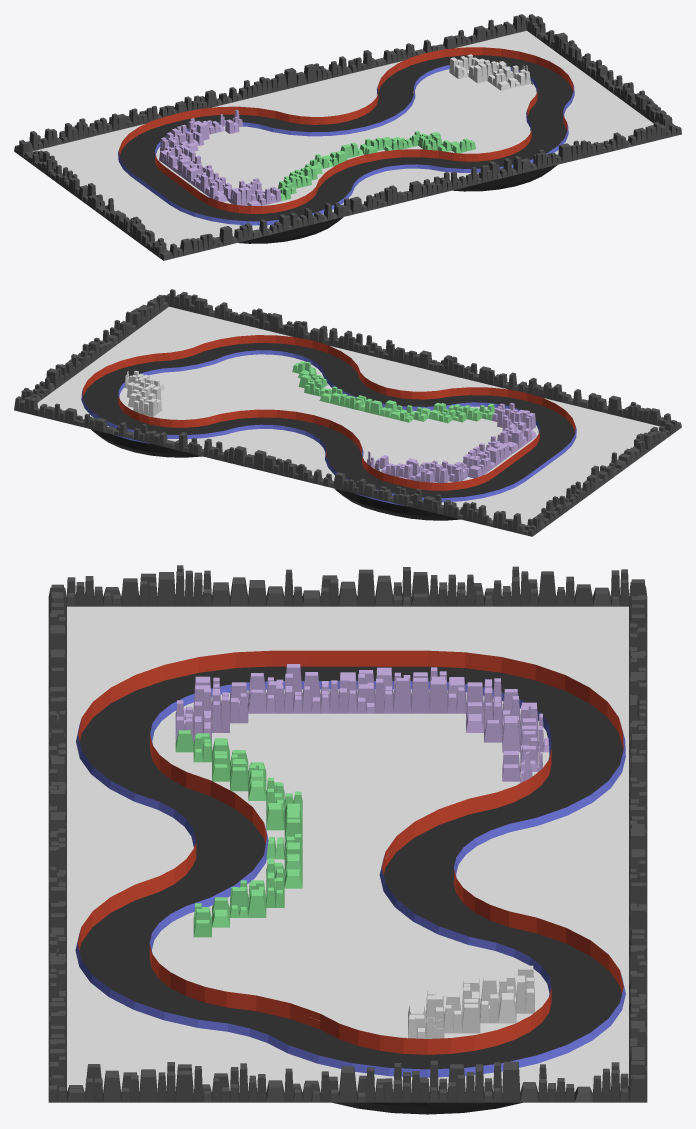
Rendered from M_track_1.glb.
3 views of the same model, one above another, from view 1: azimuth 30°, elevation 25°; view 2: azimuth 150°, elevation 25°; view 3: azimuth 270°, elevation 25° (orthographic). The views are drawn at different scales.
Parts seen in each view (by area): view 1: Plane, Plane.001, discombobulated_mesh, discombobulated_mesh.002, discombobulated_mesh.003, discombobulated_mesh.001; view 2: Plane, Plane.001, discombobulated_mesh, discombobulated_mesh.002, discombobulated_mesh.003, discombobulated_mesh.001; view 3: Plane, Plane.001, discombobulated_mesh, discombobulated_mesh.002, discombobulated_mesh.003, discombobulated_mesh.001.
Part boxes in pixels (x1,y1,x2,y2): Plane: (33, 30, 653, 251); Plane.001: (118, 47, 574, 243); discombobulated_mesh: (14, 14, 681, 260); discombobulated_mesh.002: (159, 110, 281, 205); discombobulated_mesh.003: (278, 131, 475, 200); discombobulated_mesh.001: (449, 54, 532, 90); Plane: (37, 306, 659, 525); Plane.001: (81, 335, 576, 520); discombobulated_mesh: (14, 289, 681, 536); discombobulated_mesh.002: (367, 403, 536, 482); discombobulated_mesh.003: (292, 361, 494, 423); discombobulated_mesh.001: (124, 370, 164, 416); Plane: (67, 606, 628, 1092); Plane.001: (75, 650, 625, 1114); discombobulated_mesh: (48, 565, 647, 1102); discombobulated_mesh.002: (175, 664, 549, 782); discombobulated_mesh.003: (175, 730, 302, 937); discombobulated_mesh.001: (402, 965, 534, 1038).
Size of the model in its own units: 46.91 by 3.54 by 23.46.
